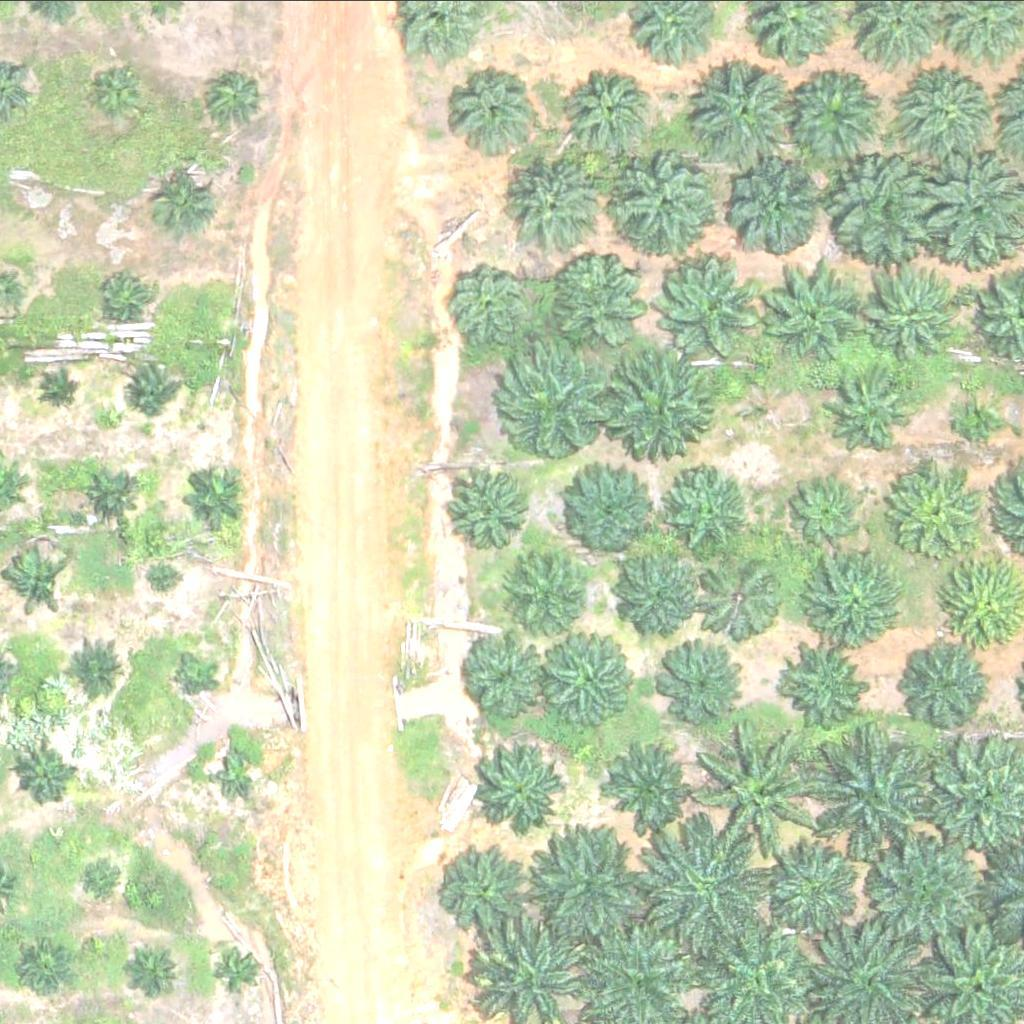Kelapa_Sawit: (645, 829, 771, 954), (871, 829, 997, 954), (814, 729, 940, 854), (698, 732, 824, 857), (492, 335, 618, 460), (524, 825, 649, 950), (685, 60, 798, 172), (613, 143, 726, 255), (832, 150, 945, 262), (891, 61, 992, 161), (783, 69, 884, 169), (505, 153, 606, 253), (868, 261, 969, 361), (762, 266, 863, 366), (659, 251, 760, 351), (610, 348, 711, 448), (725, 157, 825, 257), (810, 544, 910, 644), (537, 247, 637, 347), (565, 72, 653, 160), (770, 841, 858, 929), (549, 638, 637, 726), (664, 633, 752, 721), (776, 645, 864, 733), (893, 641, 981, 729), (899, 469, 987, 557), (602, 742, 691, 829), (565, 468, 654, 555), (457, 636, 545, 723), (611, 549, 699, 636), (454, 63, 542, 150), (447, 845, 535, 932), (473, 747, 561, 834), (692, 554, 780, 641), (503, 546, 591, 633), (446, 460, 534, 547), (673, 463, 761, 550), (450, 259, 538, 346), (823, 369, 911, 456), (144, 161, 220, 236), (4, 540, 80, 615), (789, 470, 864, 545), (181, 462, 244, 525), (71, 635, 134, 698), (76, 463, 139, 526), (19, 743, 82, 806), (204, 63, 267, 126), (86, 63, 149, 126), (20, 943, 71, 993), (169, 643, 220, 693), (211, 749, 262, 799), (78, 850, 129, 900), (131, 948, 181, 998), (131, 366, 181, 416), (98, 266, 148, 316), (948, 393, 998, 443), (212, 942, 262, 992), (147, 560, 185, 598), (44, 375, 82, 412)
